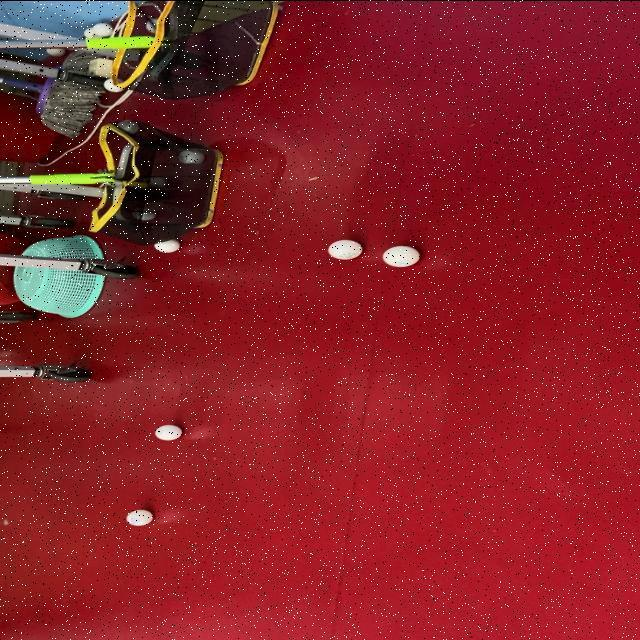ping-pong-ball: (379, 243, 423, 267), (324, 238, 364, 259), (153, 423, 185, 441), (124, 508, 154, 526), (152, 236, 182, 254), (90, 21, 116, 36), (101, 78, 121, 92), (44, 44, 66, 56)
